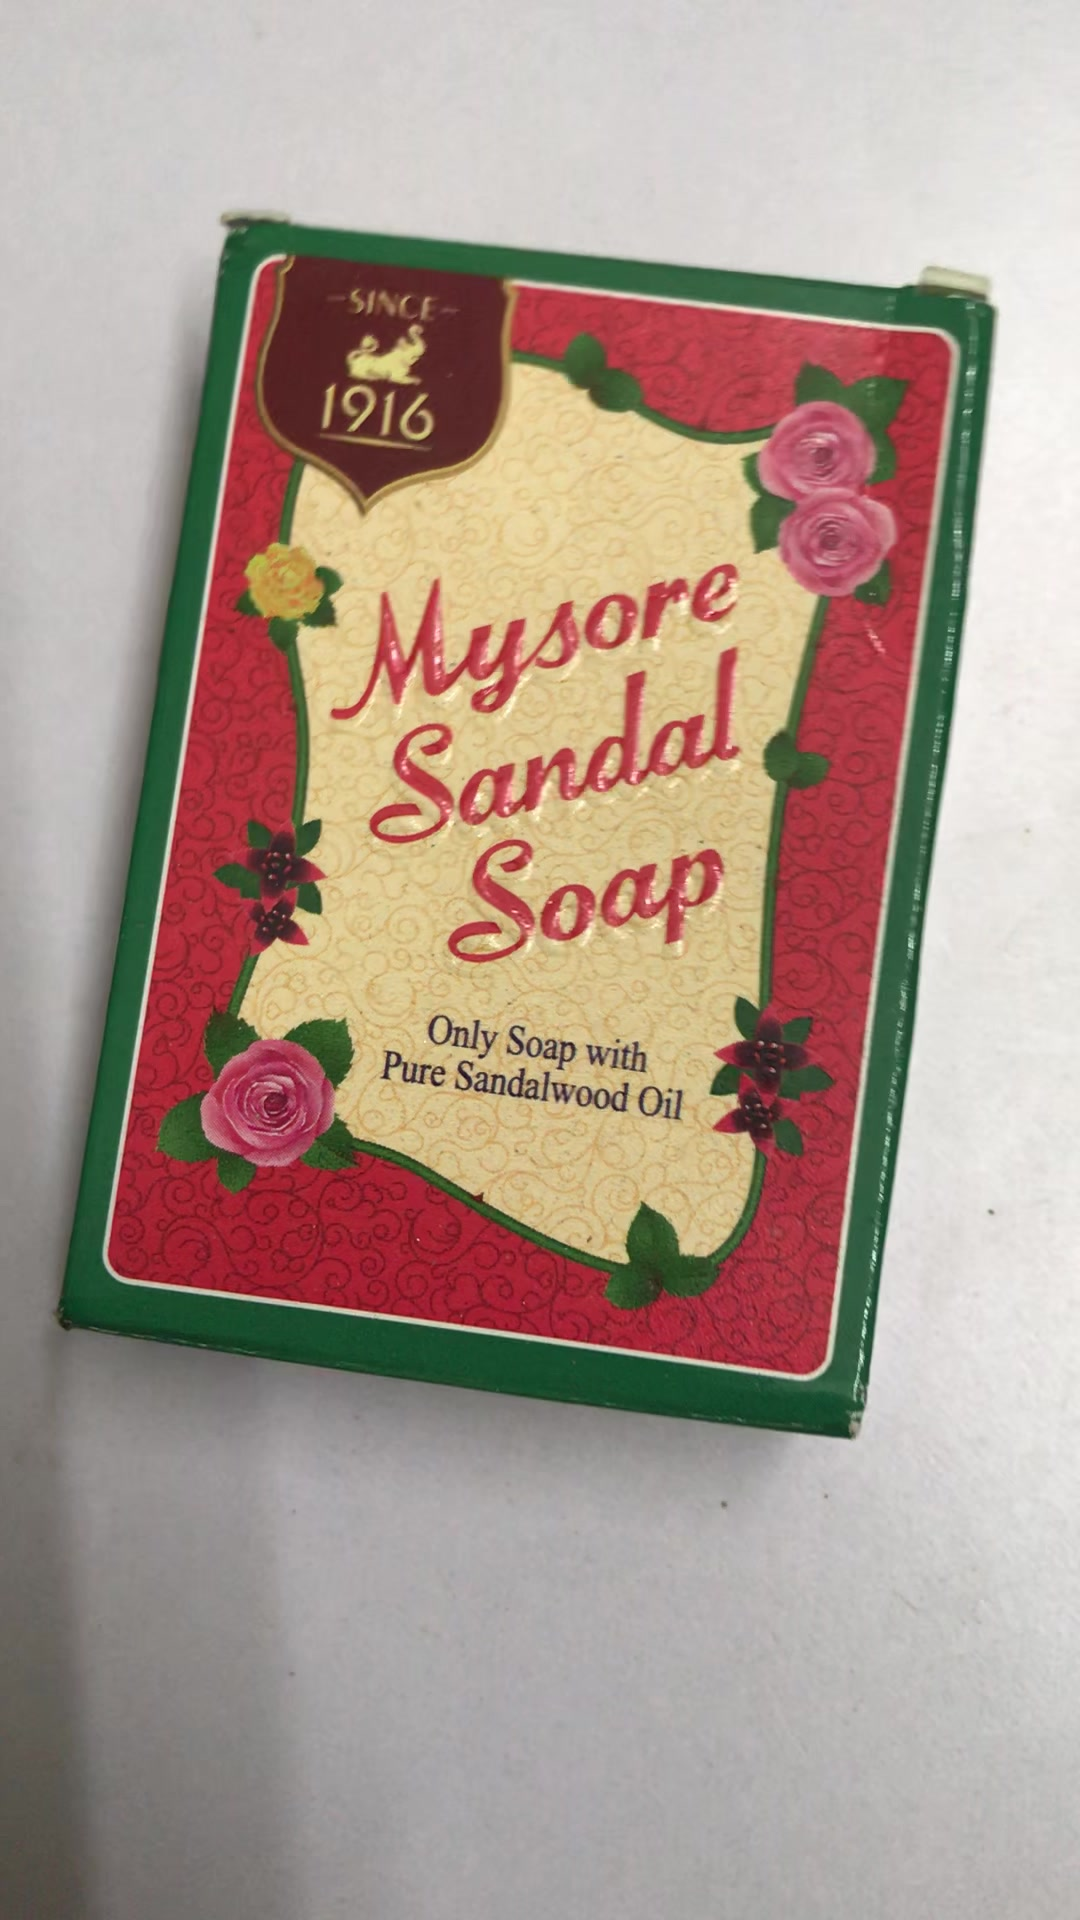mysore sandal soap: (57, 214, 993, 1437)
